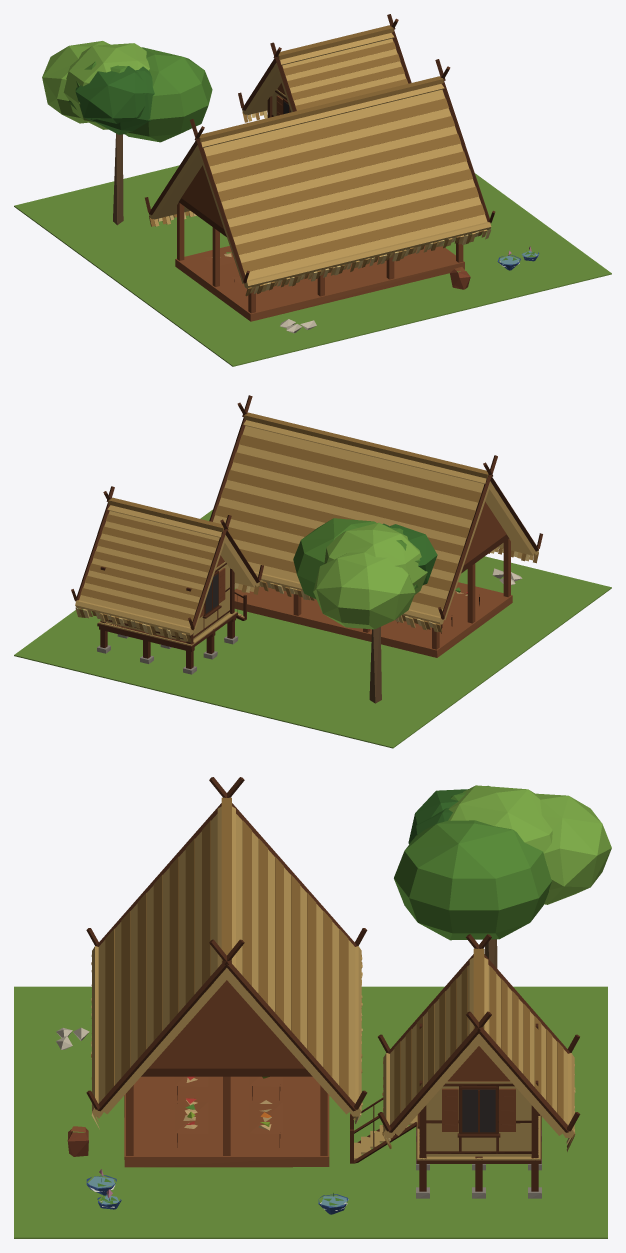
Rendered from shop_3.glb.
3 renders of one model, top to bottom at view 1: azimuth 30°, elevation 25°; view 2: azimuth 150°, elevation 25°; view 3: azimuth 270°, elevation 25°, orthographic. The views are drawn at different scales.
Parts seen in each view (by area): view 1: body; view 2: body; view 3: body, windows.
Boxes of the visible parts, x1,y1,x2,y2 form: body: (14, 14, 611, 366); body: (14, 395, 611, 748); body: (14, 777, 611, 1238); windows: (462, 1089, 495, 1132).
Size of the model in its own units: 15.9 by 7.12 by 16.01.
